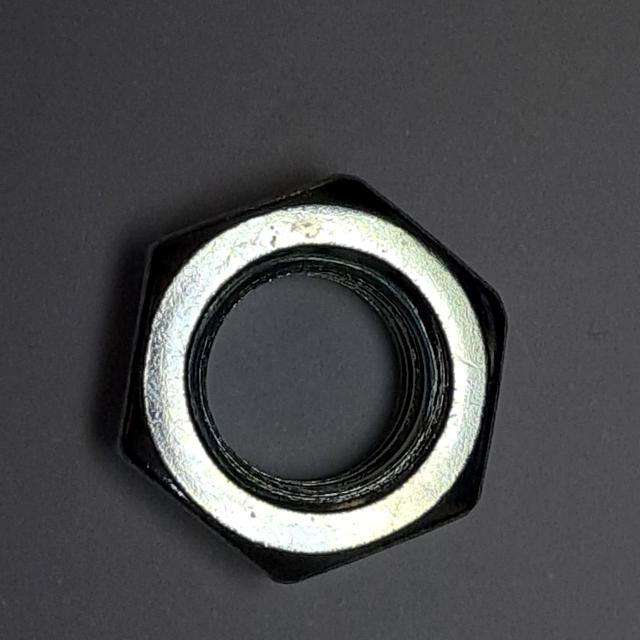Excellent: (107, 156, 518, 597)
